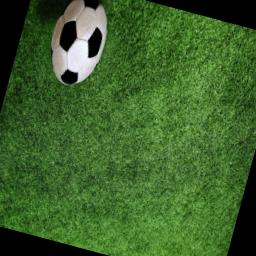football: (39, 0, 116, 92)
